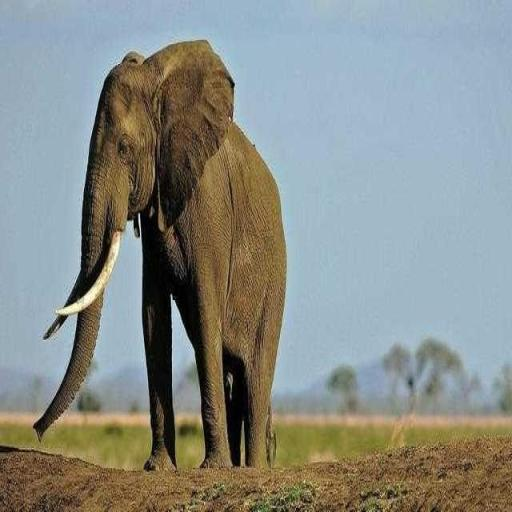Elephant: (32, 37, 287, 472)
